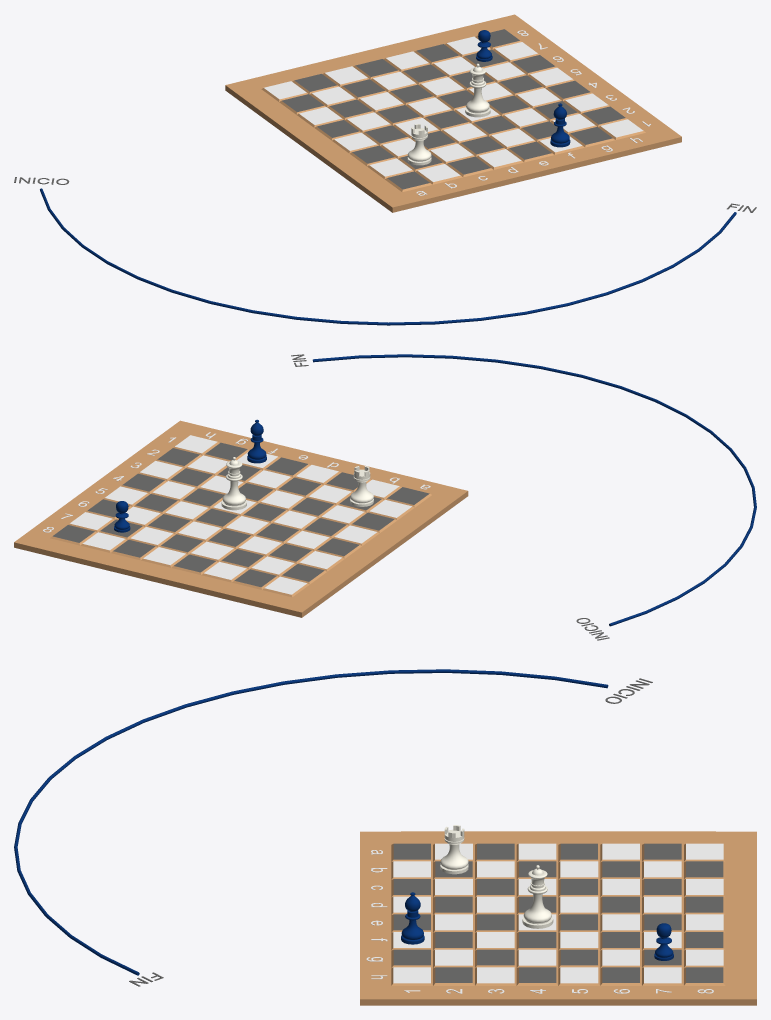
Rendered from escena.glb.
3 renders of one model, top to bottom at view 1: azimuth 30°, elevation 25°; view 2: azimuth 150°, elevation 25°; view 3: azimuth 270°, elevation 25°, orthographic. The views are drawn at different scales.
Visible parts, largest first — view 1: Plane001, arco, Line004, Line002, Line003; view 2: Plane001, arco, Line004, Line002, Line003; view 3: Plane001, arco, Line004, Line002, Line003.
Part boxes in pixels (bbox=[...]): Plane001: bbox=[225, 14, 681, 212]; arco: bbox=[40, 188, 736, 325]; Line004: bbox=[465, 63, 490, 117]; Line002: bbox=[407, 124, 431, 165]; Line003: bbox=[550, 103, 570, 147]; Plane001: bbox=[14, 420, 468, 617]; arco: bbox=[312, 354, 756, 626]; Line004: bbox=[221, 457, 246, 510]; Line002: bbox=[350, 466, 373, 506]; Line003: bbox=[247, 419, 266, 463]; Plane001: bbox=[360, 831, 756, 1005]; arco: bbox=[14, 669, 608, 975]; Line004: bbox=[522, 865, 553, 928]; Line002: bbox=[440, 825, 468, 874]; Line003: bbox=[401, 892, 424, 944].
Bounding box in the file's own units: 5.88 × 0.5481 × 5.65.
